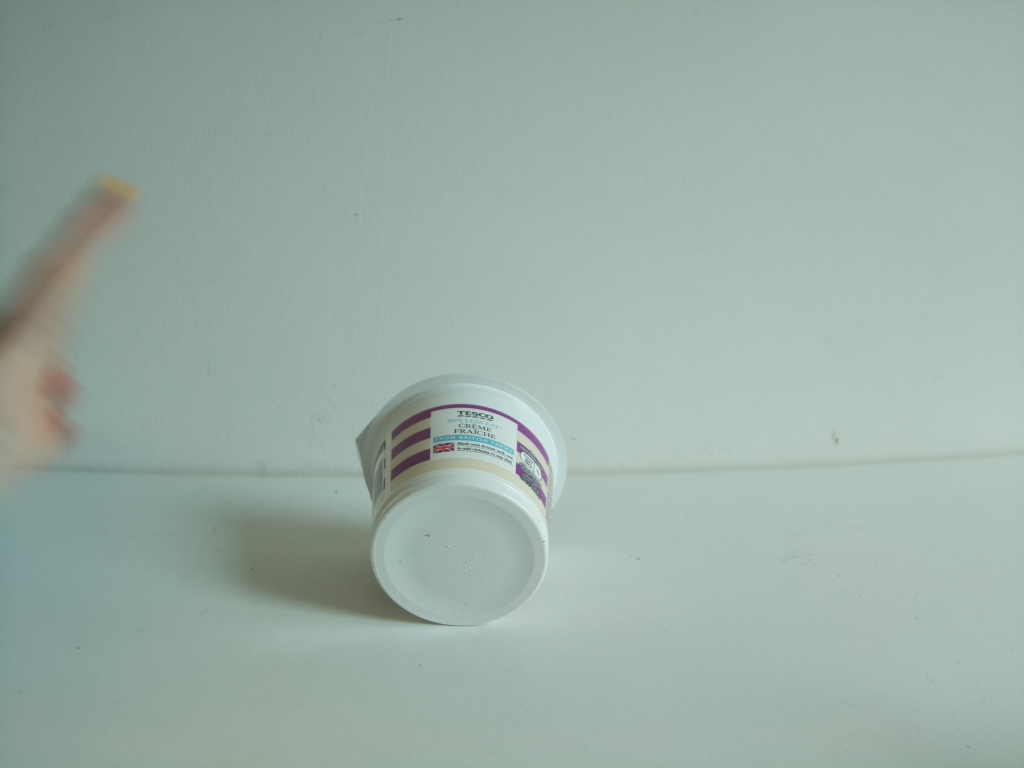cream: (354, 363, 570, 631)
